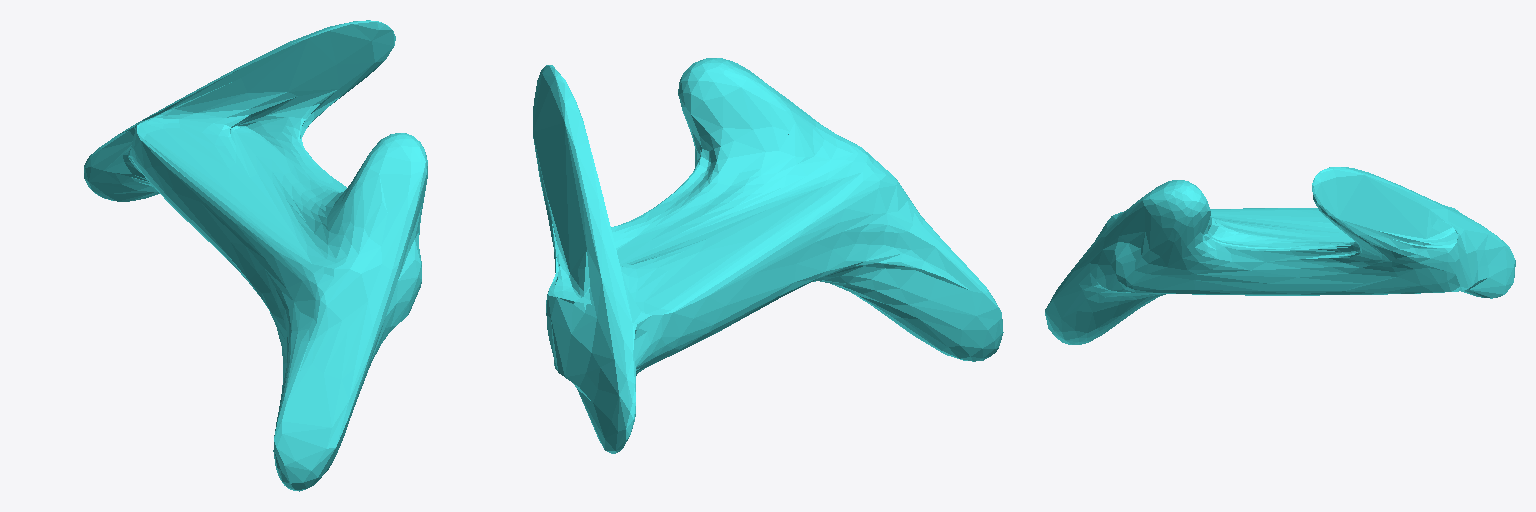
The robot description file, URDF, robot "blob455":

<robot name="blob455">
  <link name="random_obj_455">
    <contact>
      <lateral_friction value="1.0"/>
      <rolling_friction value="0.0"/>
      <inertia_scaling value="3.0"/>
      <contact_cfm value="0.0"/>
      <contact_erp value="1.0"/>
    </contact>
    <inertial>
      <origin rpy="0 0 0" xyz="0 0 0"/>
      <mass value="0.0695"/>
      <inertia ixx="1" ixy="0" ixz="0" iyy="1" iyz="0" izz="0"/>
    </inertial>
    <visual>
      <origin rpy="0 0 0" xyz="0 0 0"/>
      <geometry>
        <mesh filename="455.obj" scale="0.0066 0.0066 0.0066"/>
      </geometry>
      <material name="blockmat">
        <color rgba="0.36 0.95 0.96 1"/>
      </material>
    </visual>
    <collision>
      <origin rpy="0 0 0" xyz="0 0 0"/>
      <geometry>
        <mesh filename="455_coll.obj" scale="0.0066 0.0066 0.0066"/>
      </geometry>
    </collision>
  </link>
</robot>

--- What the picture shows (computed from the rendered views, not written in the file) ---
3 views of the same robot in one strip: view 1: azimuth 30°, elevation 25°; view 2: azimuth 150°, elevation 25°; view 3: azimuth 270°, elevation 25° (orthographic).
Robot: blob455 — 1 links, 0 joints (none); root link random_obj_455; default pose: all joints at 0.
Visible links, largest first — view 1: random_obj_455; view 2: random_obj_455; view 3: random_obj_455.
Boxes of the visible links, box(x1,y1,x2,y2) form: random_obj_455: box(84, 20, 427, 491); random_obj_455: box(533, 58, 1003, 453); random_obj_455: box(1045, 167, 1515, 344).
Size in the robot's own frame: 0.058 by 0.1052 by 0.0651 metres.
Meshes: 1 distinct files referenced, 1 mesh visuals loaded (1 OBJ).
